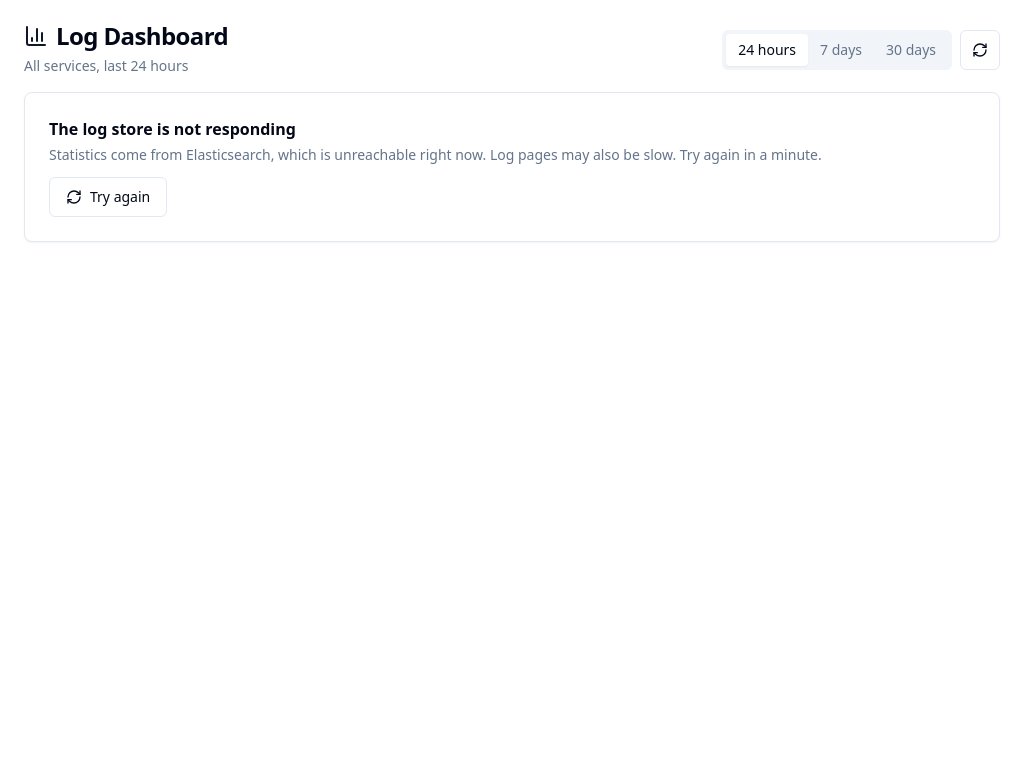
LogDashboard › explains a 503 and retries on request
expect the heading "The log store is not responding" is shown: met, box left=49, top=118, right=296, bottom=140
Click the button "Try again". click: x=108, y=197
box: left=49, top=177, right=167, bottom=217
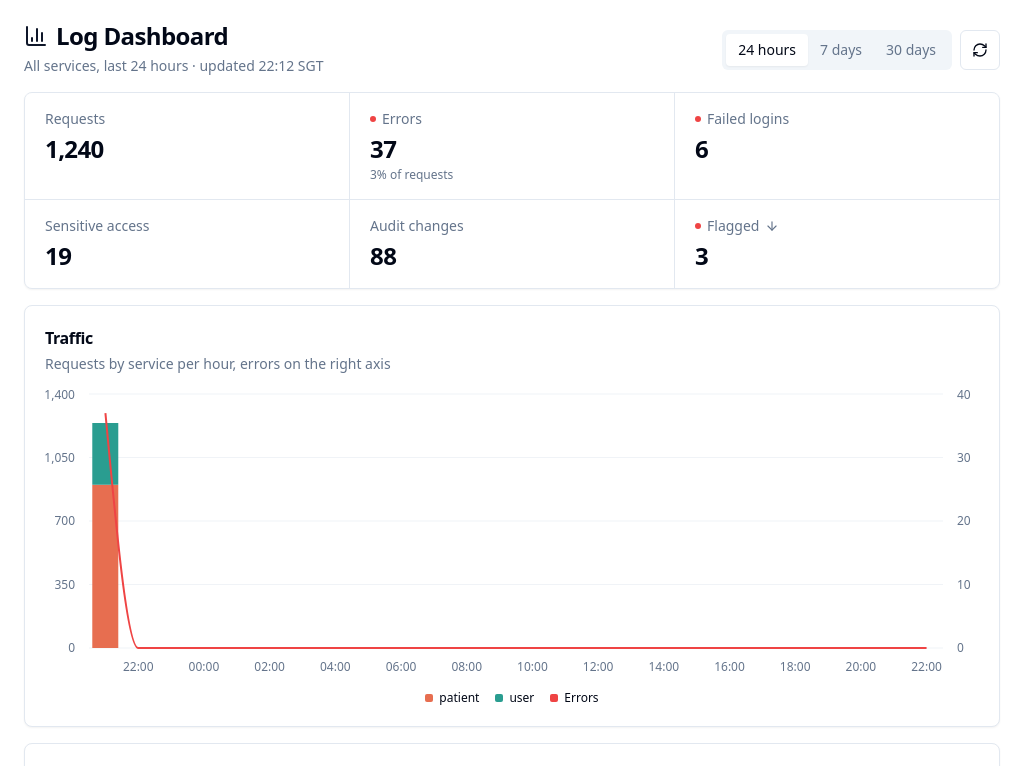
expect the text "1,240" is shown: met, box left=45, top=132, right=104, bottom=165
